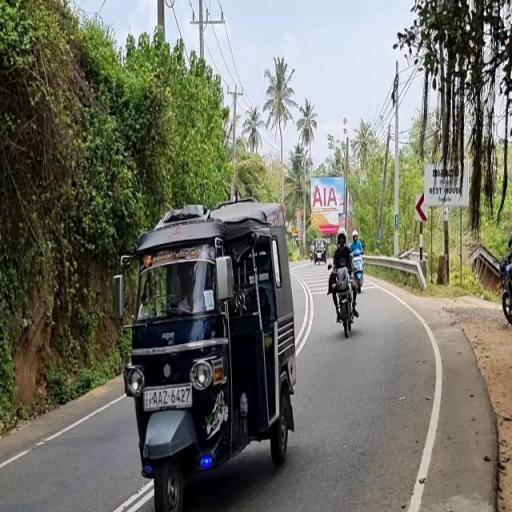double_white_line: (115, 478, 153, 512)
